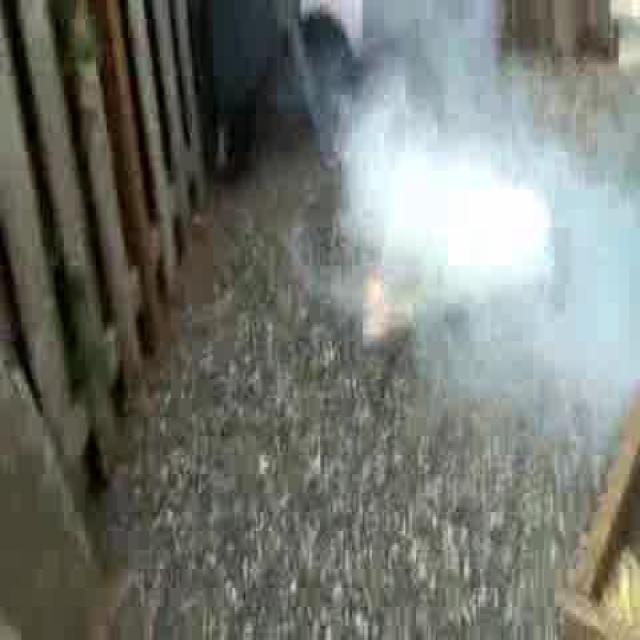Smoke: (276, 0, 640, 478)
